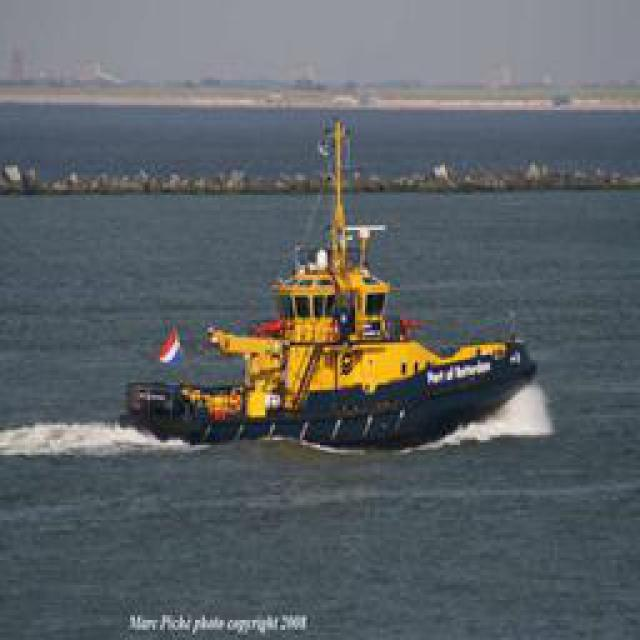Ship: (120, 119, 548, 452)
